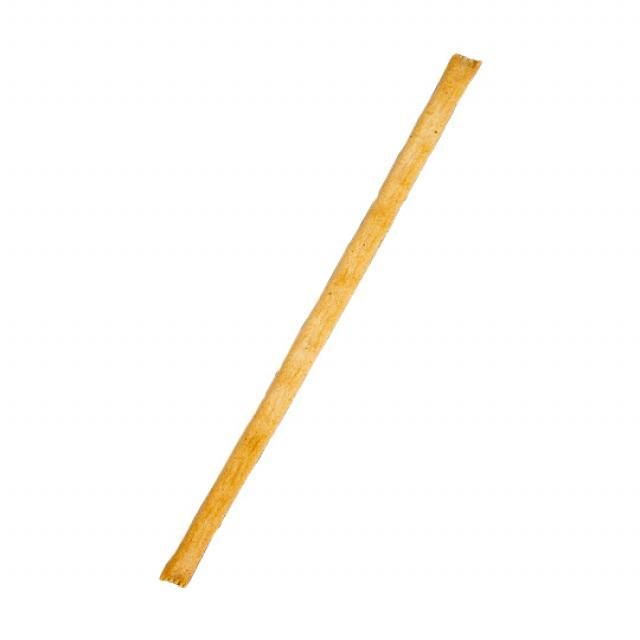Grissini: (159, 52, 483, 591)
